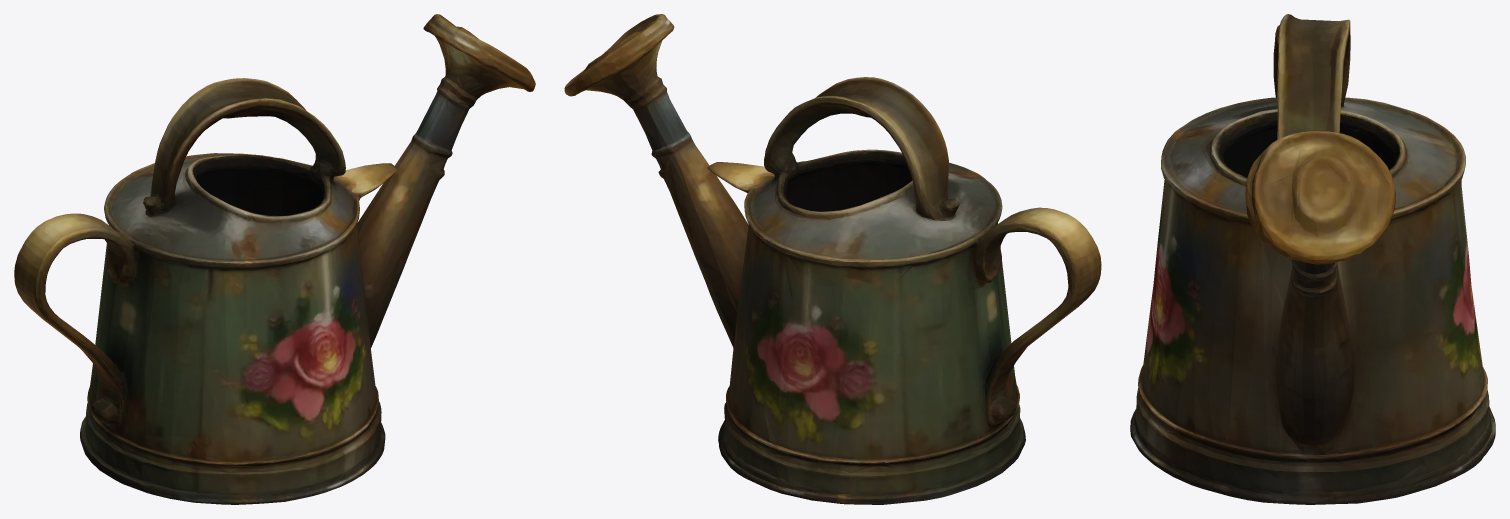
The model's file is watering-can.glb.
The picture shows the model from 3 angles, left to right: view 1: azimuth 30°, elevation 25°; view 2: azimuth 150°, elevation 25°; view 3: azimuth 270°, elevation 25°; orthographic projection. The views are drawn at different scales.
Visible parts, largest first — view 1: world; view 2: world; view 3: world.
Part boxes in pixels (bbox=[...]): world: bbox=[14, 14, 535, 504]; world: bbox=[564, 14, 1101, 504]; world: bbox=[1130, 14, 1495, 504].
Bounding box in the file's own units: 0.9976 × 0.6815 × 0.534.
Materials: 1 (1 with a texture image).
